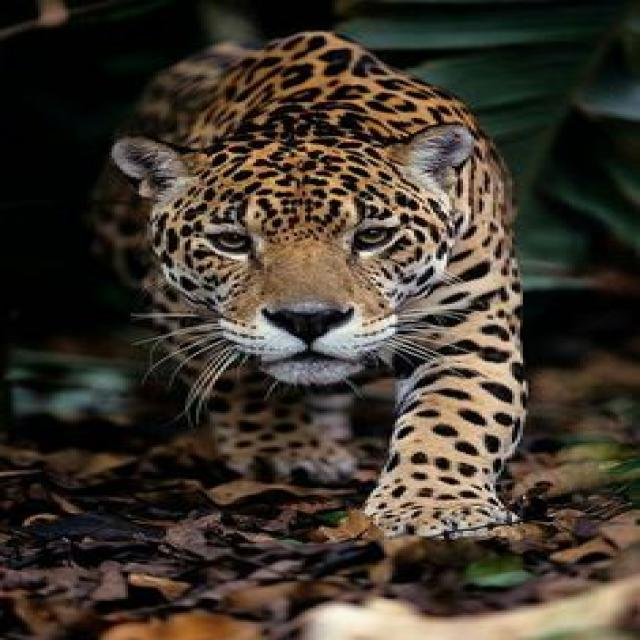Carnivorous: (87, 30, 528, 540)
